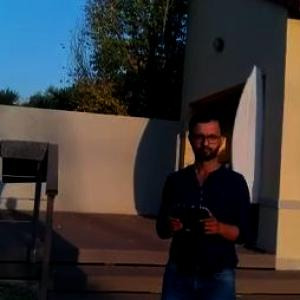follow: (150, 104, 257, 299)
